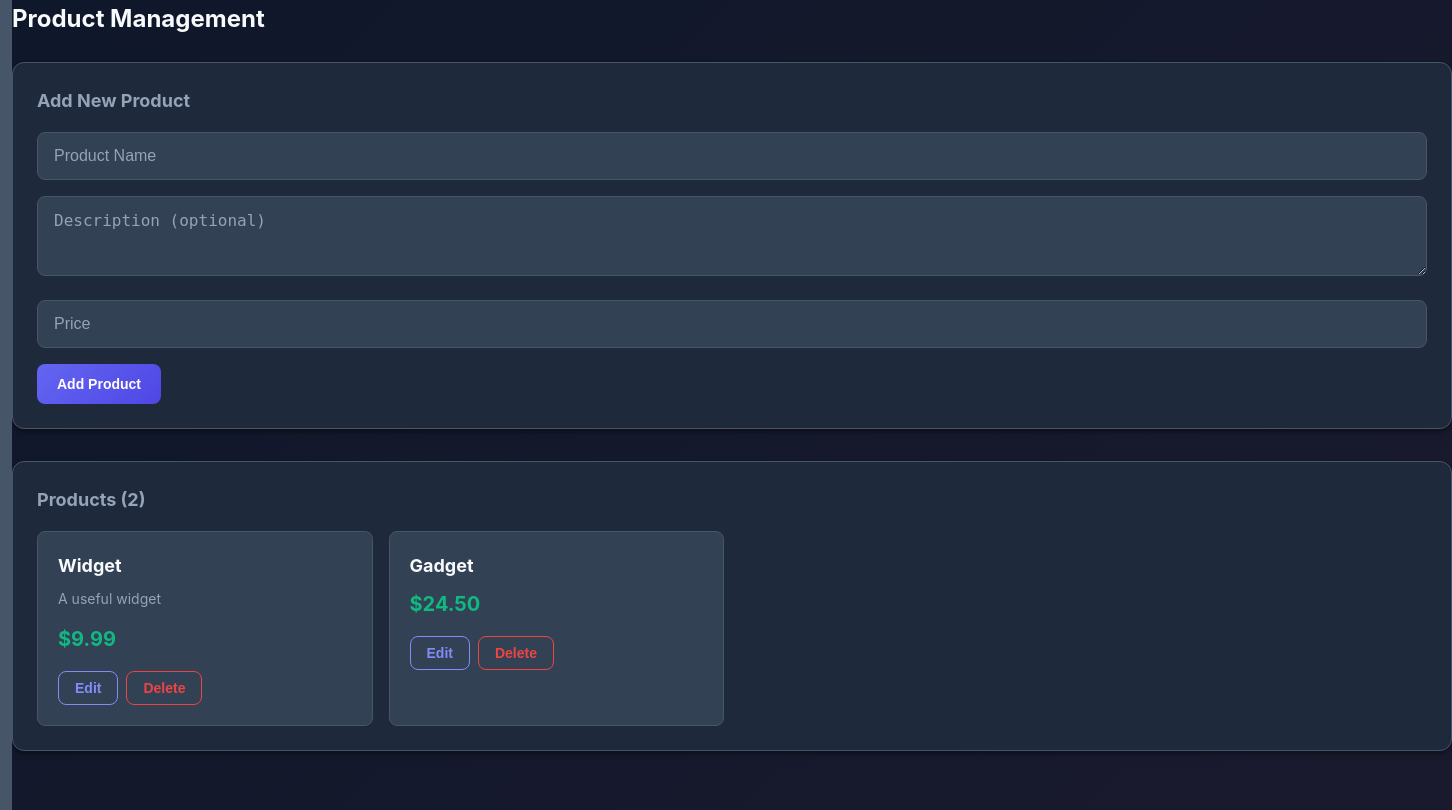
Scenario: ProductList › cancels editing and resets the form
Expected: the heading "Widget" is shown, [58, 555, 122, 576]
# Enter edit mode
Click the button "Edit" below "9.99" at (88, 688), box [58, 671, 118, 705]
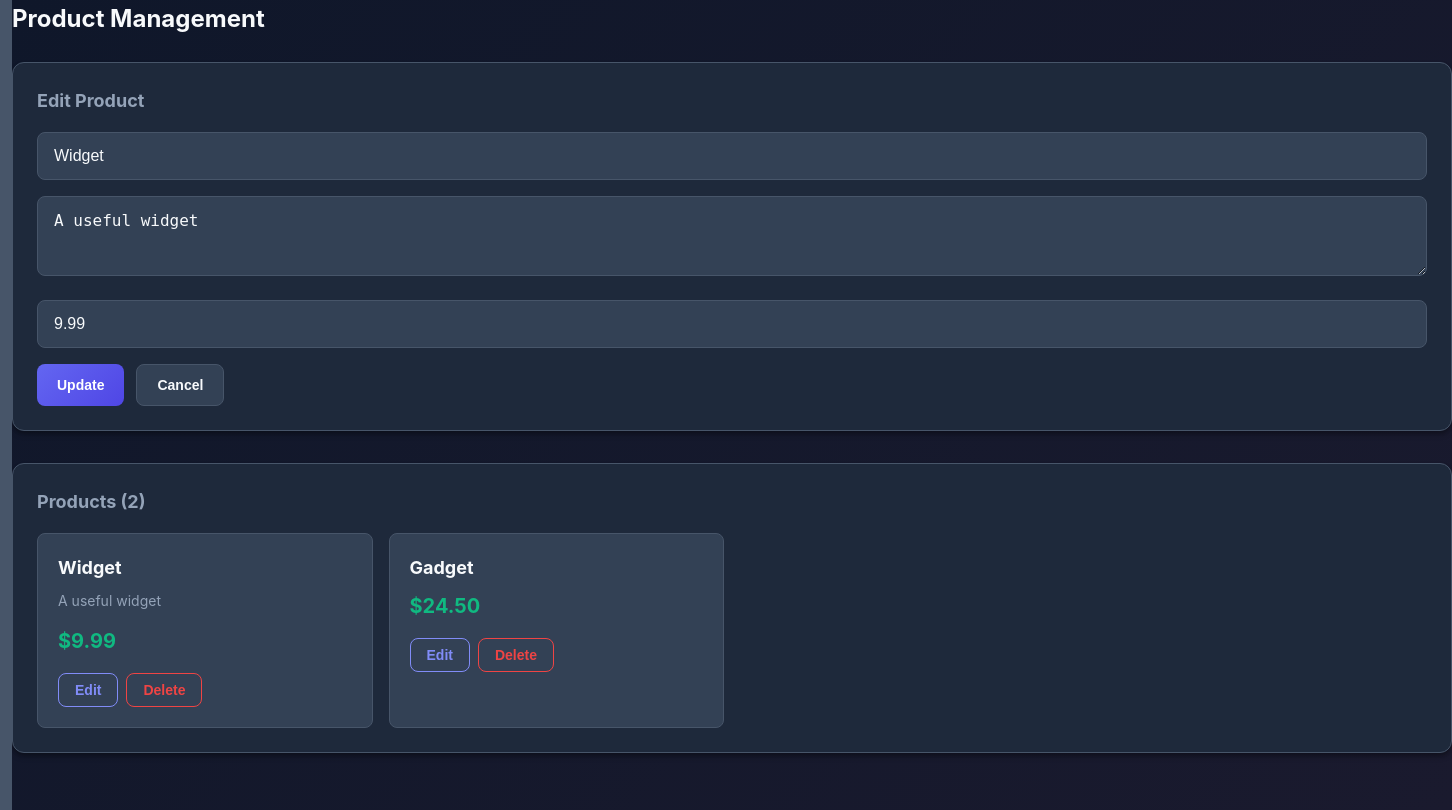
Now the heading "Edit Product" is shown, box [37, 90, 144, 111]
Click the button "Cancel" at (180, 385), box [136, 364, 224, 406]
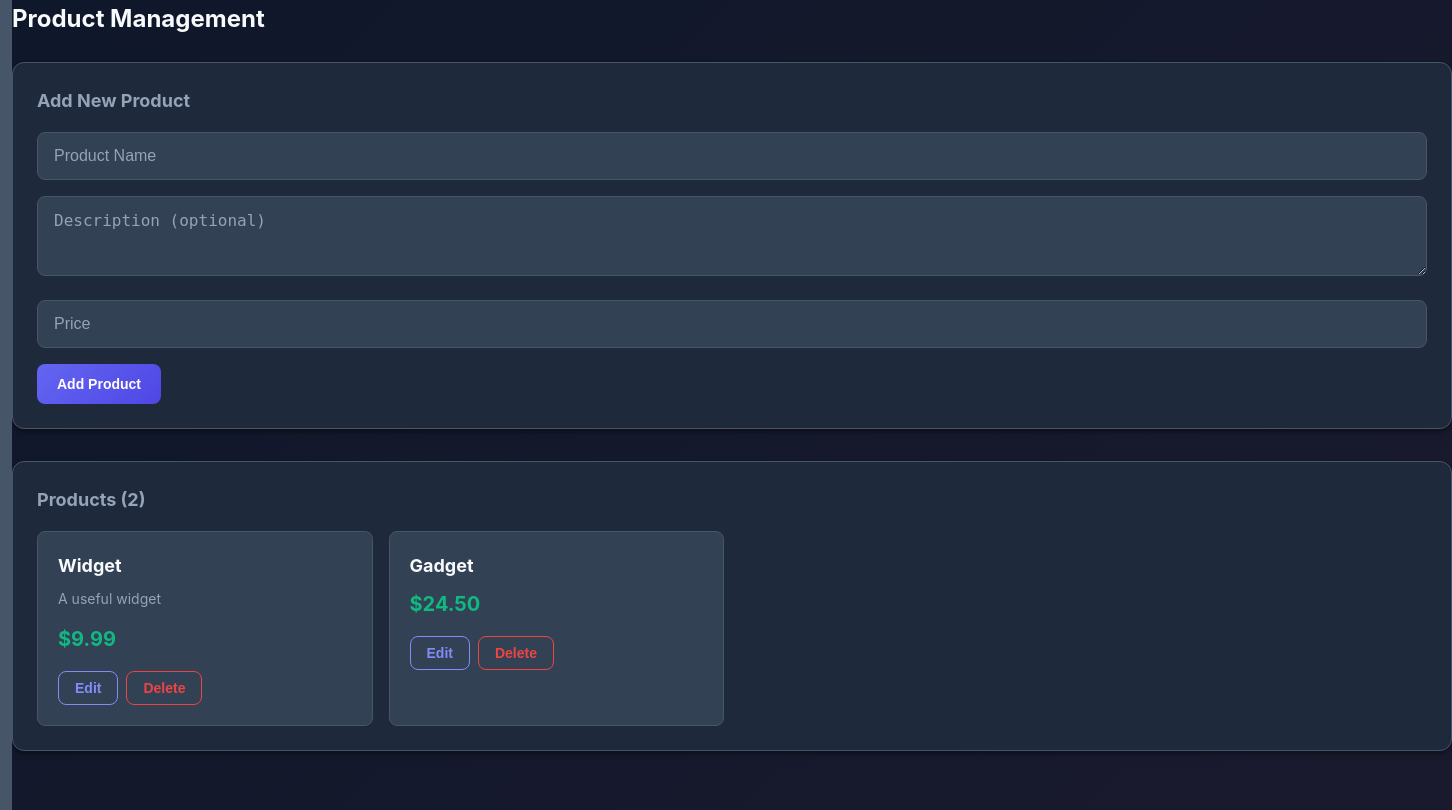
Now the heading "Add New Product" is shown, box [37, 90, 190, 111]
Now the field with placeholder "Product Name" is empty, box [37, 132, 1427, 180]
